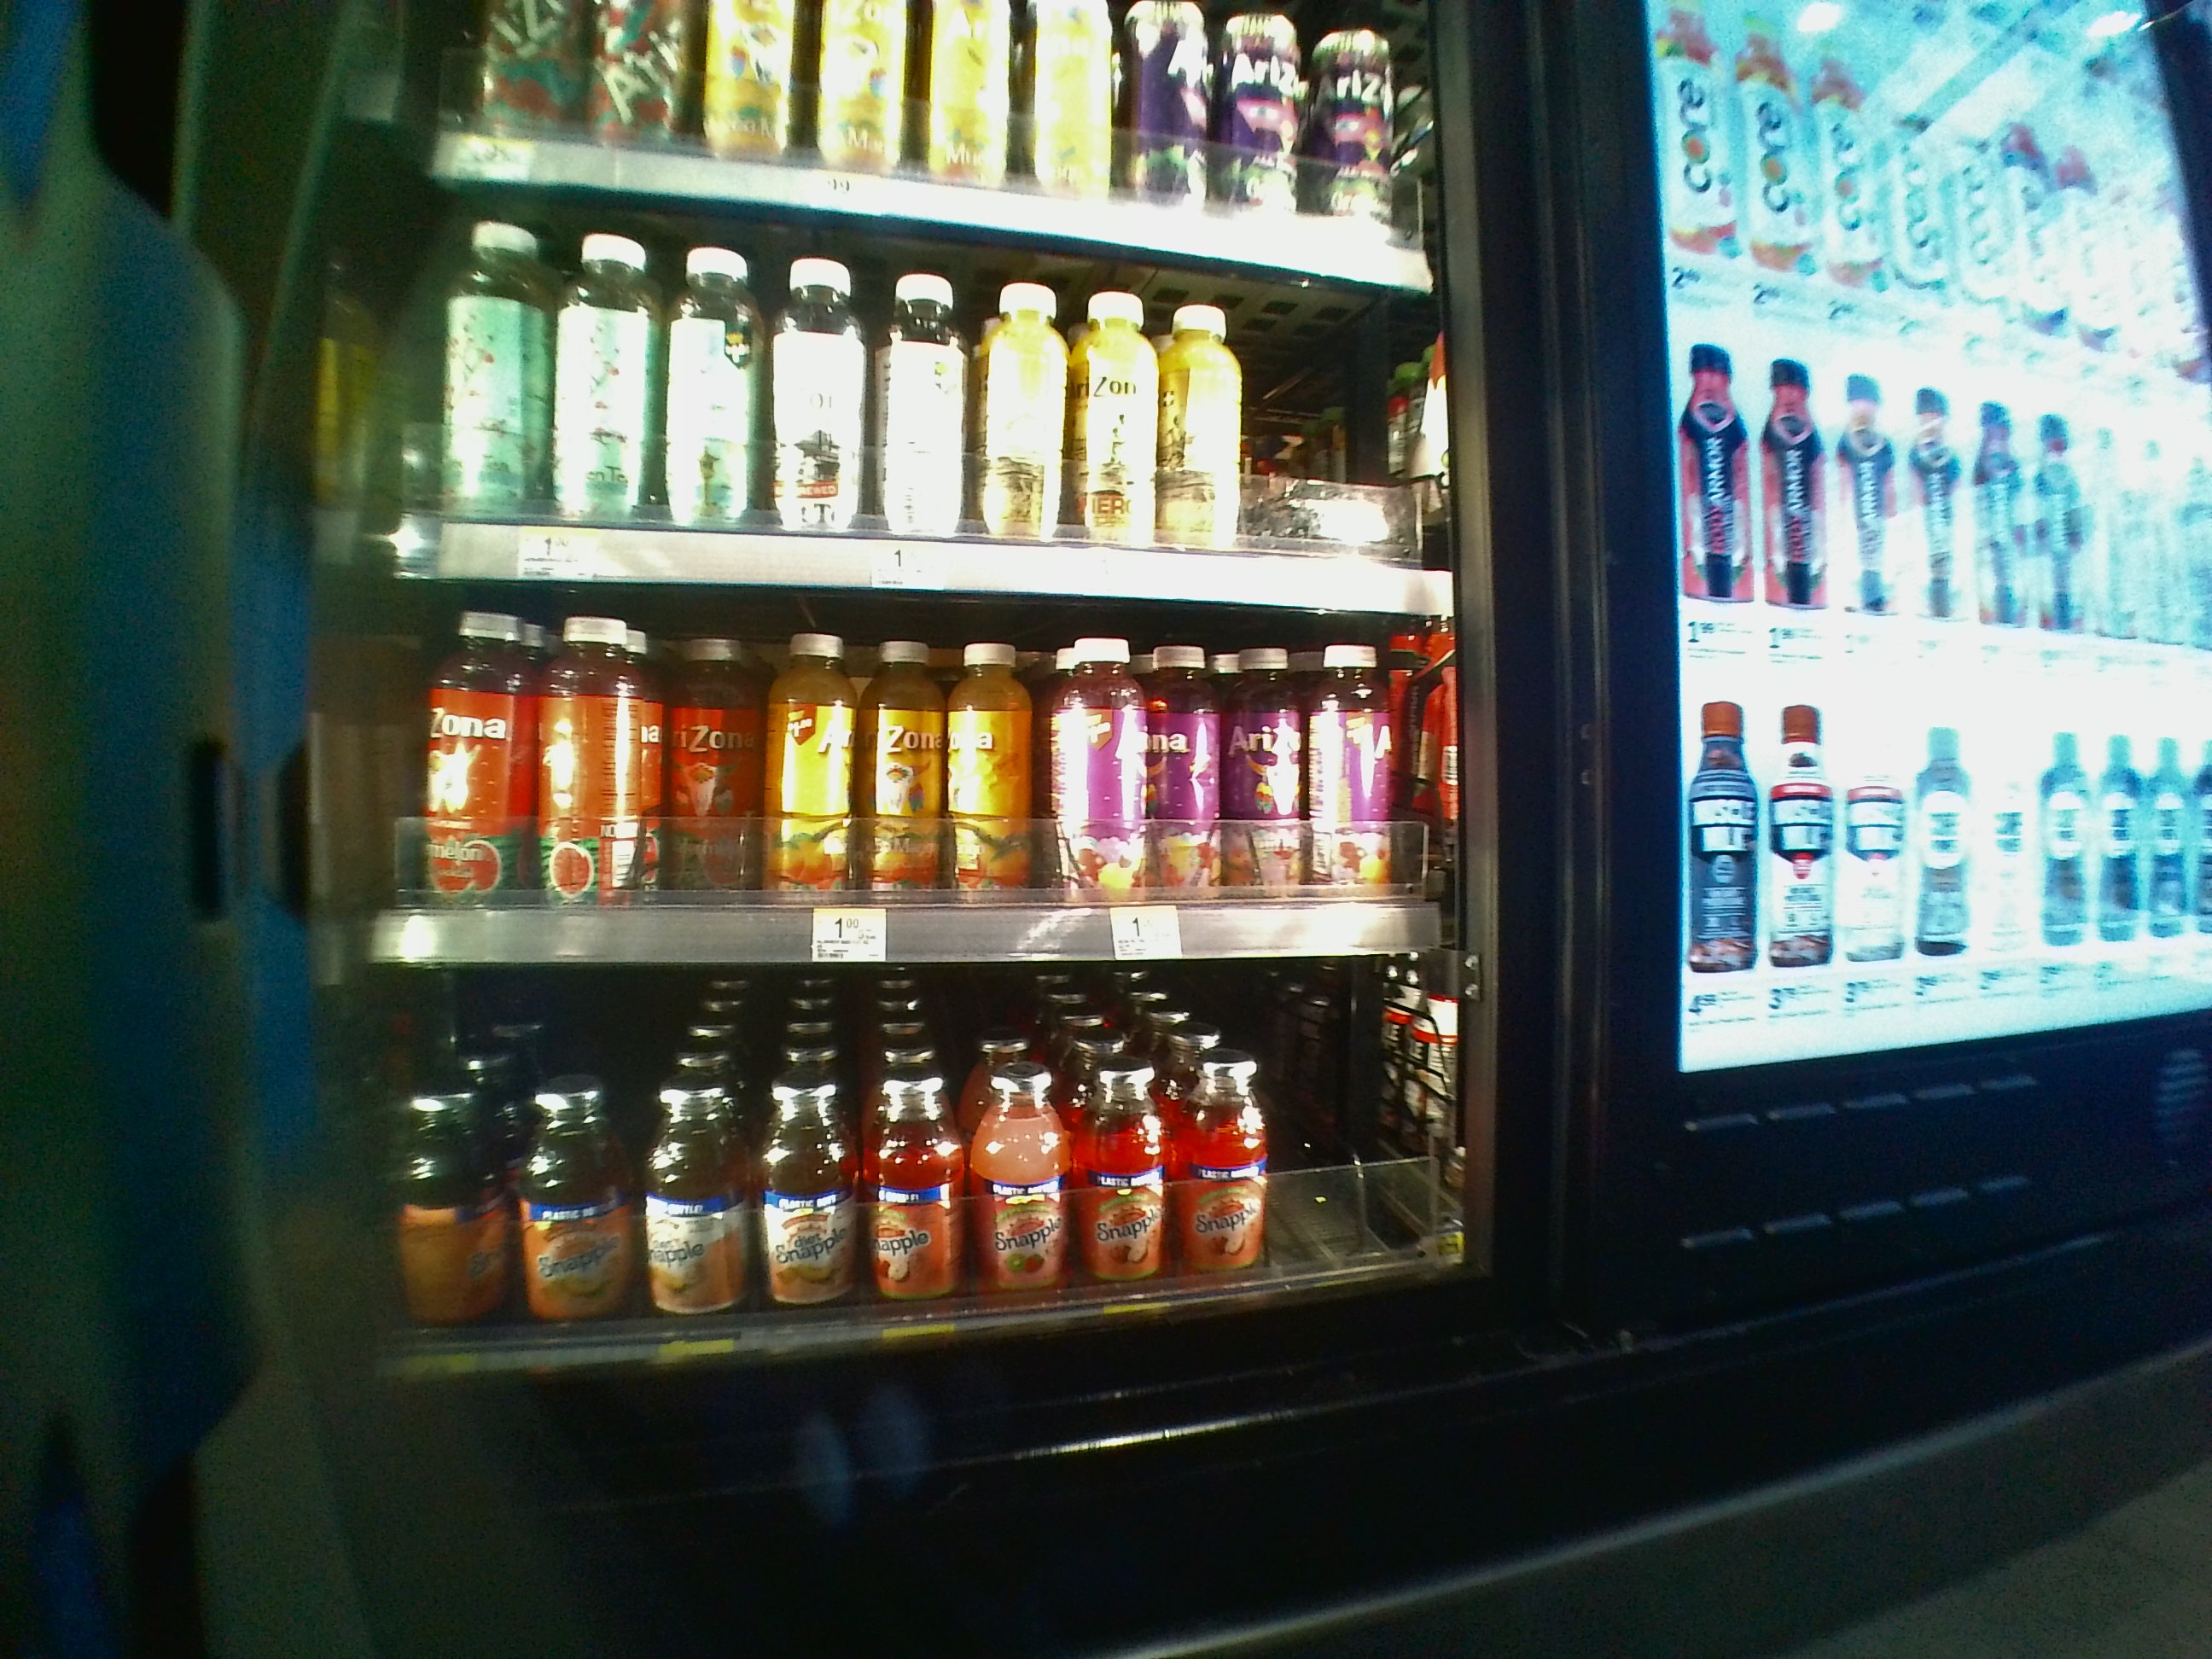shelf: (380, 974, 1460, 1389), (374, 596, 1447, 962)
